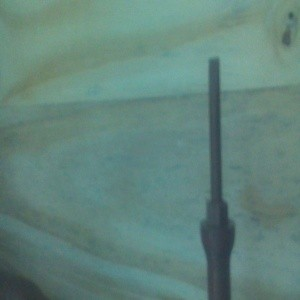obeng: (199, 56, 236, 300)
